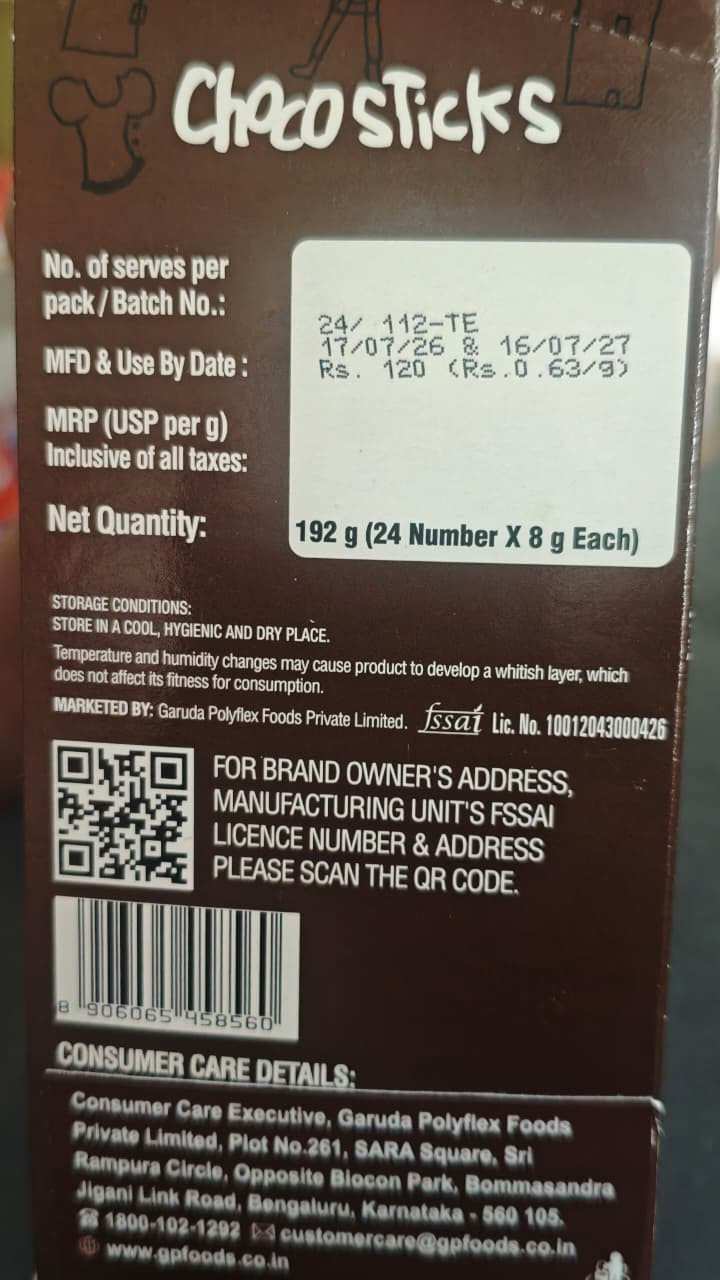Brand: (134, 44, 596, 141)
EXP_Date: (498, 328, 640, 358)
MFG_Date: (302, 333, 458, 356)
MRP: (314, 358, 447, 400)
